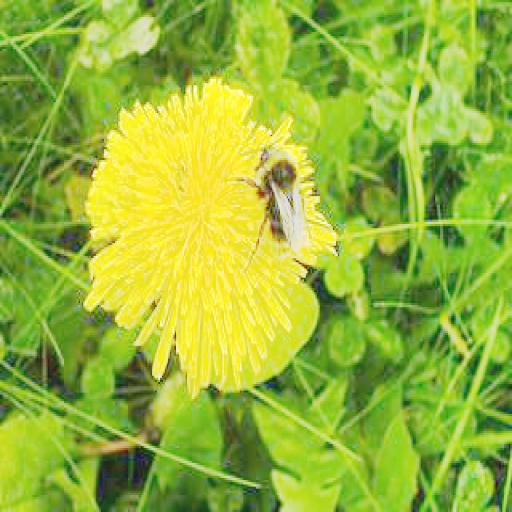dandelion: (85, 77, 336, 384)
